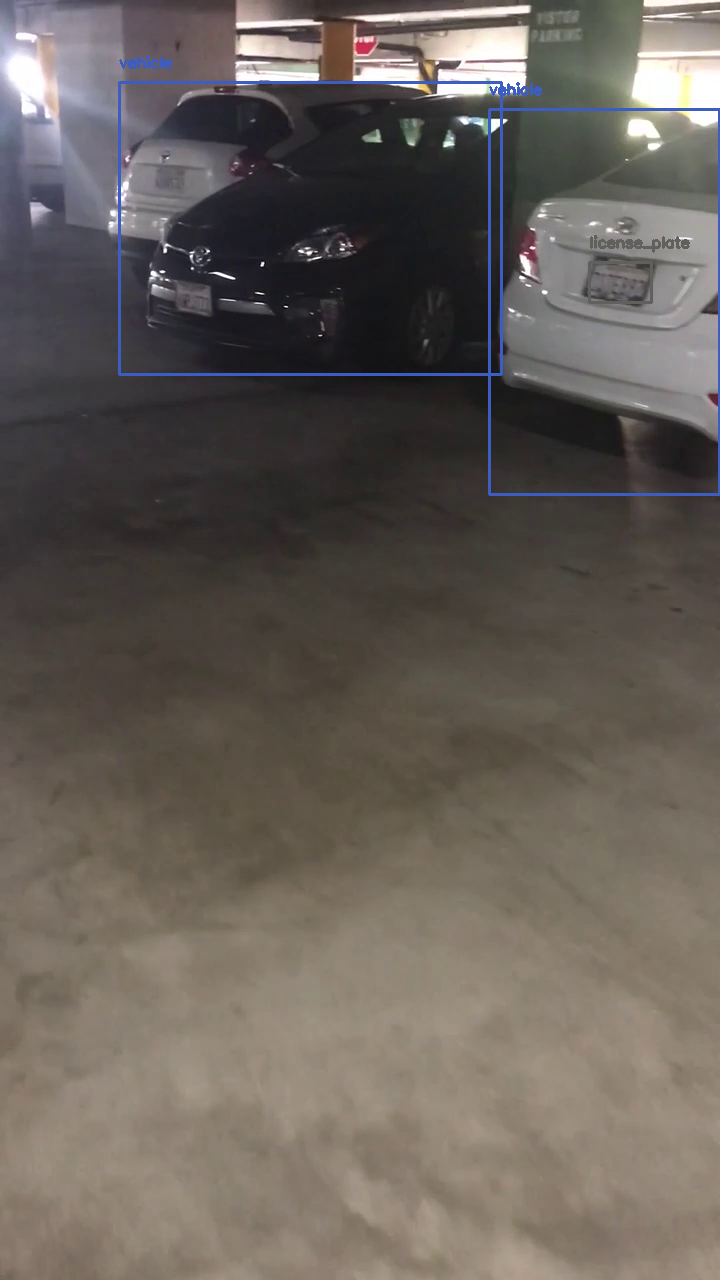license_plate: (589, 262, 651, 302)
vehicle: (119, 82, 501, 374), (489, 109, 719, 494)
